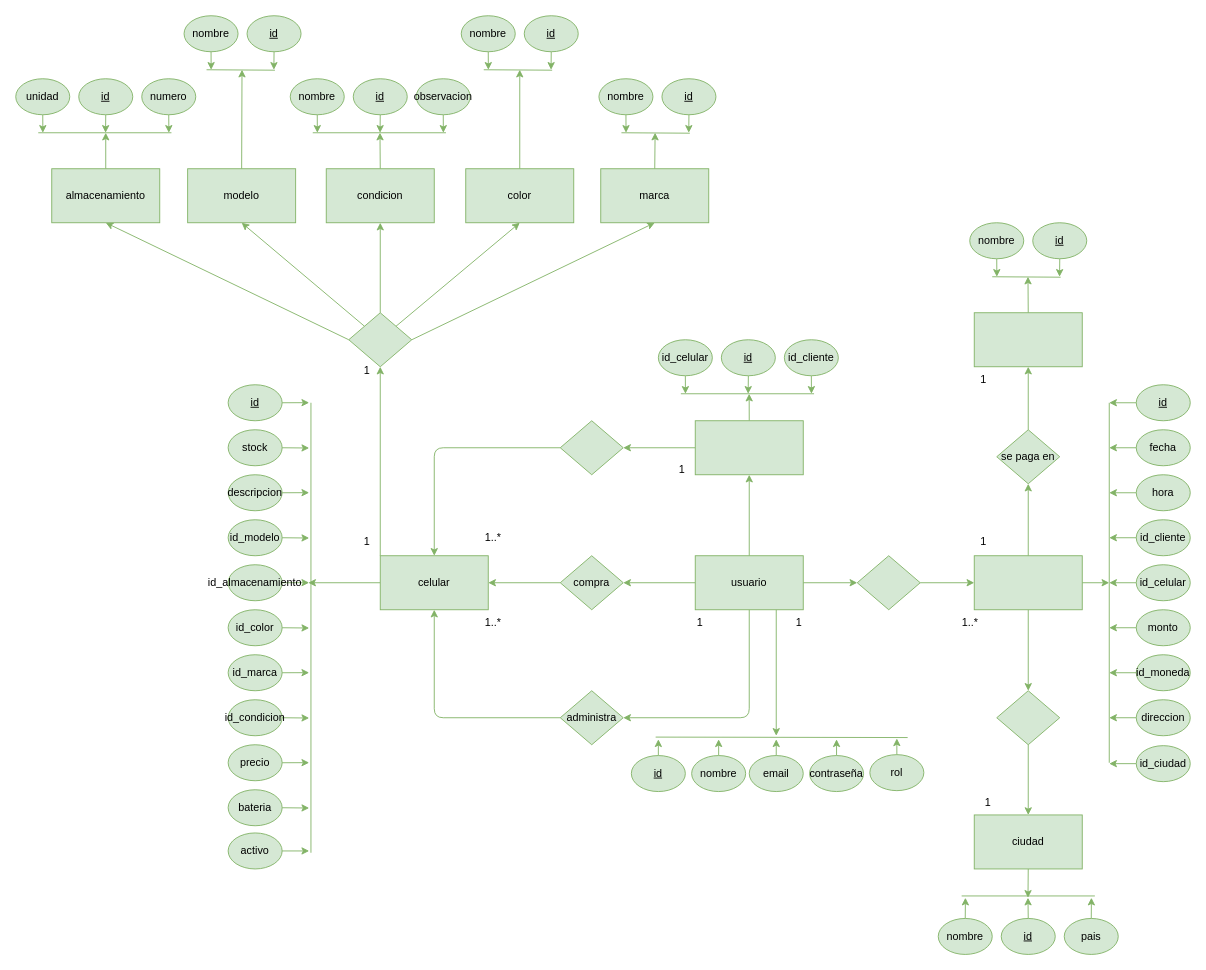
The diagram is 1206 pixels wide and 970 high, and some of its shapes have lost their labels. Each missing label, with the centre of its shape:
carrito: point 748,447
genera: point 888,582
guarda: point 591,447
moneda: point 1027,339
tiene: point 380,339
va apara: point 1028,717
venta: point 1027,582
